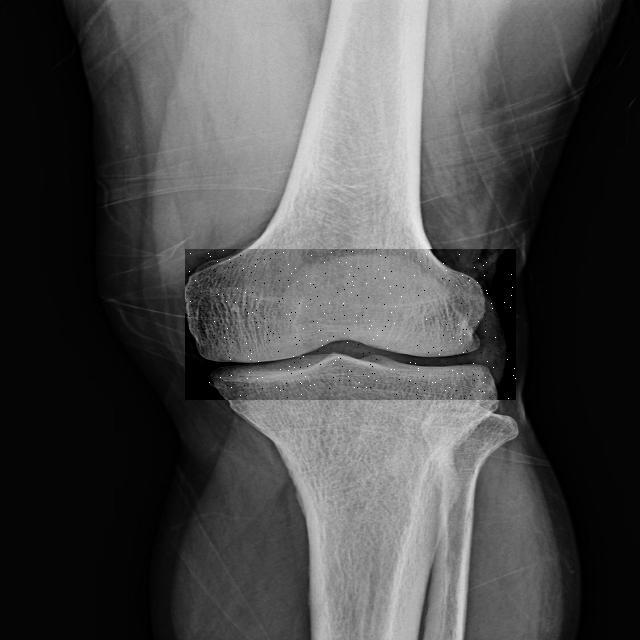osteo: (185, 249, 518, 400)
